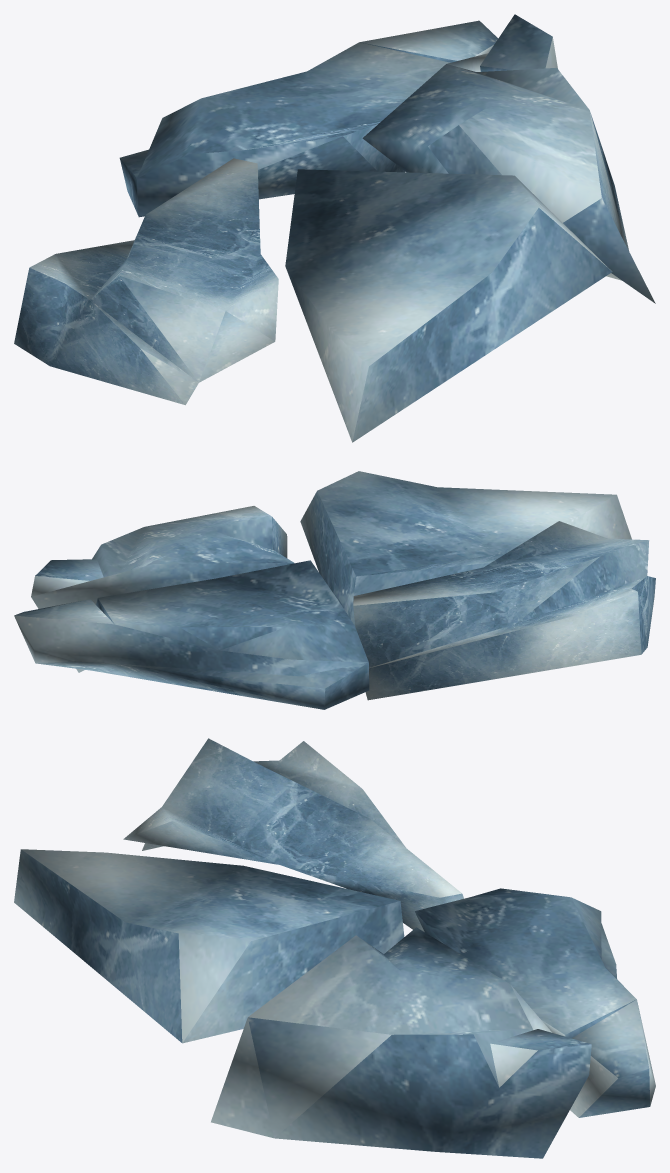
Rendered from S_Rock_White050_A.FBX.
3 views of the same model, one above another, from view 1: azimuth 30°, elevation 25°; view 2: azimuth 150°, elevation 25°; view 3: azimuth 270°, elevation 25° (orthographic). The views are drawn at different scales.
Visible parts, largest first — view 1: S_Rock_White050_A; view 2: S_Rock_White050_A; view 3: S_Rock_White050_A.
Boxes of the visible parts, x1,y1,x2,y2 form: S_Rock_White050_A: [14, 14, 655, 442]; S_Rock_White050_A: [14, 471, 655, 709]; S_Rock_White050_A: [14, 738, 655, 1158].
Size of the model in its own units: 346 by 90.29 by 317.
